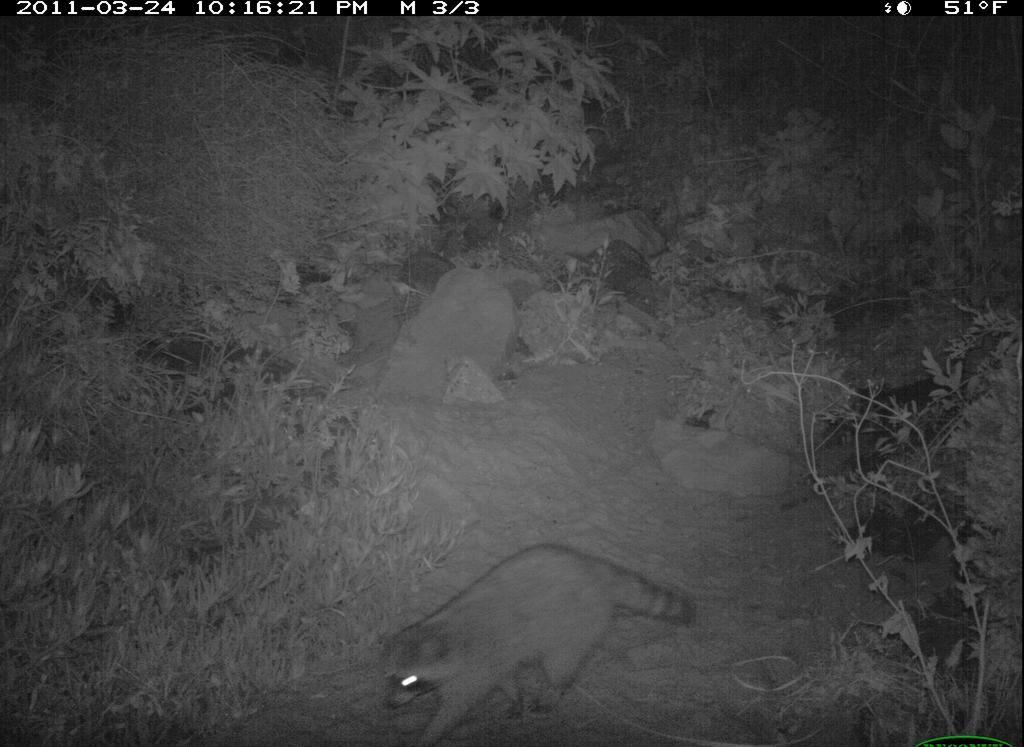raccoon: (374, 537, 705, 742)
